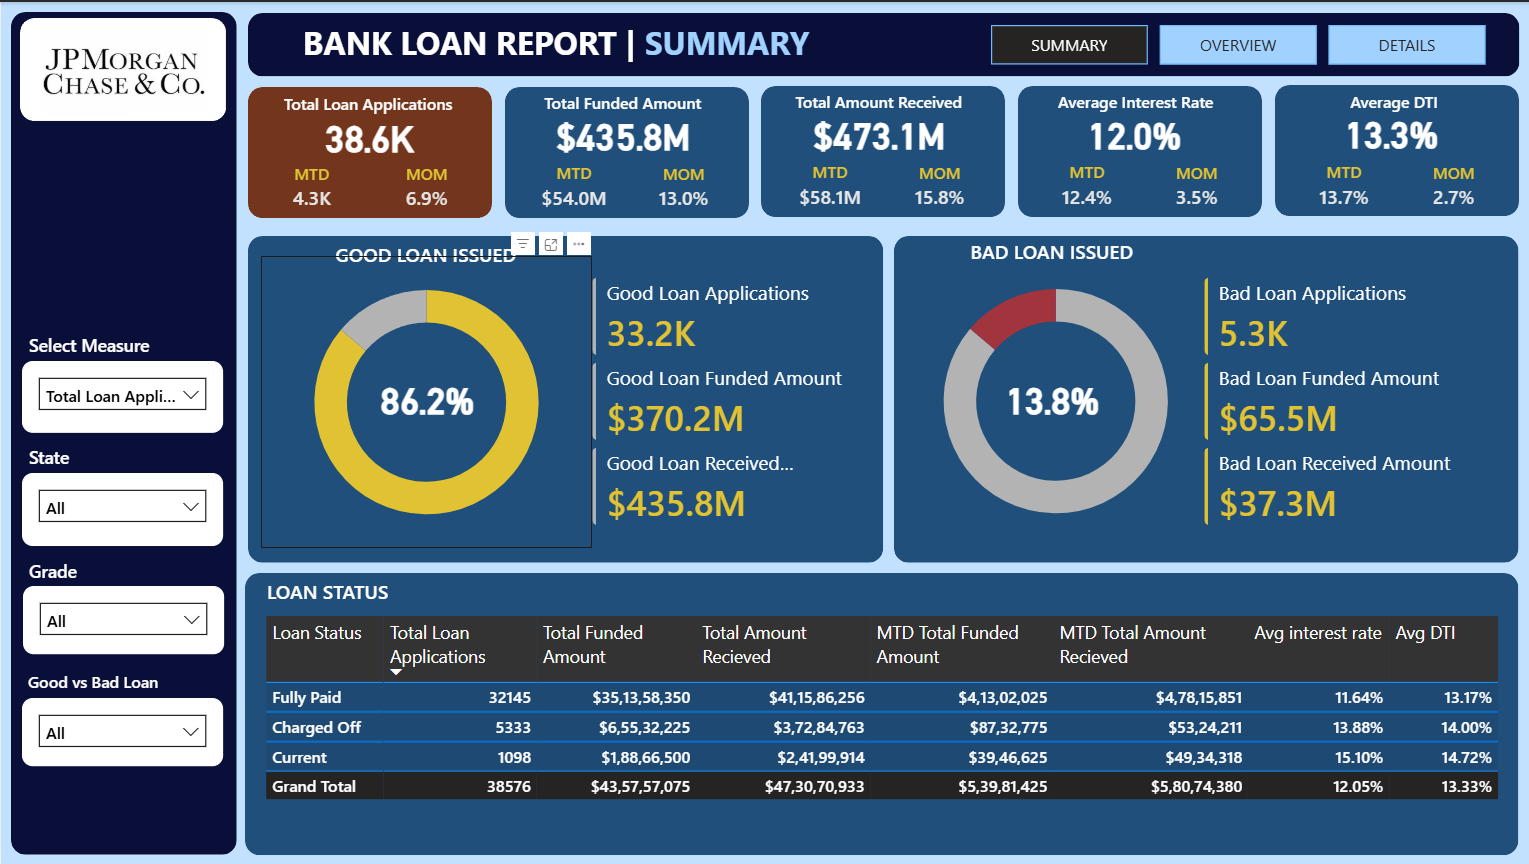

Layout of this report page (visuals, bound fields, positions):
{"tool":"powerbi","page":{"name":"SUMMARY","canvas":[1280,720],"ordinal":0},"visuals":[{"type":"shape","box":[8.1,8.1,188.5,703.8],"z":0},{"type":"shape","box":[1063.8,69.2,203.8,109.5],"z":0,"group":"g5"},{"type":"shape","box":[635.2,69.6,203.8,109.5],"z":0,"group":"g3"},{"type":"shape","box":[849.5,69.8,203.8,109.5],"z":0,"group":"g4"},{"type":"shape","box":[420.8,70.5,203.8,109.5],"z":0,"group":"g2"},{"type":"shape","box":[206.5,70.9,203.8,109.5],"z":0,"group":"g1"},{"type":"textbox","box":[1119.6,69,87.1,34.1],"z":1000,"group":"g5"},{"type":"textbox","box":[658.6,69.1,150,34.1],"z":1000,"group":"g3"},{"type":"textbox","box":[877.7,69.1,150,34],"z":1000,"group":"g4"},{"type":"textbox","box":[444.2,70,150,34.1],"z":1000,"group":"g2"},{"type":"textbox","box":[231.6,70.9,154.4,28.7],"z":1000,"group":"g1"},{"type":"shape","box":[203.5,477,1063.6,235.7],"z":1000},{"type":"shape","box":[16.2,13.5,172.4,86.2],"z":2000,"group":"g6"},{"type":"card","fields":{"Values":["Bank_Data.Total Amount Recieved"]},"box":[671.9,89.2,123.9,42.2],"z":2000,"group":"g3"},{"type":"card","fields":{"Values":["Bank_Data.Total Loan Applications"]},"box":[260.4,89.8,96.1,44.9],"z":2000,"group":"g1"},{"type":"card","fields":{"Values":["Bank_Data.Avg DTI"]},"box":[1105.5,89.9,110.4,38.6],"z":2000,"group":"g5"},{"type":"card","fields":{"Values":["Bank_Data.Total Funded Amount"]},"box":[457.5,90.1,123.9,42.2],"z":2000,"group":"g2"},{"type":"card","fields":{"Values":["Bank_Data.Avg interest rate"]},"box":[891.2,90.4,110.4,38.6],"z":2000,"group":"g4"},{"type":"shape","box":[206.5,195.7,530.6,272.9],"z":2000},{"type":"card","title":"MTD","fields":{"Values":["Bank_Data.MTD DTI"]},"box":[1089,132.4,65.4,46.2],"z":3000,"group":"g5"},{"type":"card","title":"MTD","fields":{"Values":["Bank_Data.MTD Total Amount Recieved"]},"box":[660.4,132.7,65.4,46.2],"z":3000,"group":"g3"},{"type":"card","title":"MTD","fields":{"Values":["Bank_Data.MTD avg interest"]},"box":[874.7,133,65.4,46.2],"z":3000,"group":"g4"},{"type":"card","title":"MTD","fields":{"Values":["Bank_Data.MTD Total Funded Amount"]},"box":[446,133.6,65.4,46.2],"z":3000,"group":"g2"},{"type":"card","title":"MTD","fields":{"Values":["Bank_Data.MTD Loan Application"]},"box":[231.6,134.6,56.6,45.8],"z":3000,"group":"g1"},{"type":"textbox","box":[255,195.7,200.2,34.1],"z":3000},{"type":"shape","box":[206.5,9,1062,53],"z":4000},{"type":"card","title":"MOM","fields":{"Values":["Bank_Data.MOM DTI"]},"box":[1185,133,56.6,45.8],"z":4000,"group":"g5"},{"type":"card","title":"MOM","fields":{"Values":["Bank_Data.MOM Recieved Amount amount"]},"box":[756.4,133.3,56.6,45.8],"z":4000,"group":"g3"},{"type":"card","title":"MOM","fields":{"Values":["Bank_Data.MOM interest rate"]},"box":[970.7,133.5,56.6,45.8],"z":4000,"group":"g4"},{"type":"card","title":"MOM","fields":{"Values":["Bank_Data.MOM funded amount"]},"box":[542,134.2,56.6,45.8],"z":4000,"group":"g2"},{"type":"card","title":"MOM","fields":{"Values":["Bank_Data.MOM Loan Application"]},"box":[327.7,134.6,56.6,45.8],"z":4000,"group":"g1"},{"type":"textbox","box":[242.4,9.9,442.6,52.1],"z":5000},{"type":"card","fields":{"Values":["Bank_Data.Good Loan Percentage"]},"box":[300.7,312.4,110.4,38.6],"z":6000},{"type":"group","id":"g1","title":"Group 1","box":[206.5,70.9,203.8,109.5],"z":7000},{"type":"group","id":"g2","title":"Group 1","box":[420.8,70,203.8,110.4],"z":8000},{"type":"group","id":"g3","title":"Group 1","box":[635.2,69.1,203.8,110.4],"z":9000},{"type":"group","id":"g4","title":"Group 1","box":[849.5,69.1,203.8,110.4],"z":10000},{"type":"group","id":"g5","title":"Group 1","box":[1063.8,69,203.8,109.8],"z":11000},{"type":"shape","box":[746,195.7,521.6,272.9],"z":12000},{"type":"donutChart","fields":{"Category":["Bank_Data.Good vs Bad Loans"],"Y":["Bank_Data.Total Loan Applications"]},"box":[217.3,211.9,276.5,244.2],"z":13000},{"type":"cardVisual","fields":{"Data":["Bank_Data.Good Loan Applications","Bank_Data.Good Loan Funded Amount","Bank_Data.Good Loan Received Amount"]},"box":[476.7,212.8,261.2,241.5],"z":14000},{"type":"donutChart","fields":{"Category":["Bank_Data.Good vs Bad Loans"],"Y":["Bank_Data.Total Loan Applications"]},"box":[746,211,270.2,244.2],"z":15000},{"type":"textbox","box":[777.5,193,200.2,34.1],"z":16000},{"type":"card","fields":{"Values":["Bank_Data.Bad Loan Percentage"]},"box":[822.3,312.4,110.4,38.6],"z":17000},{"type":"cardVisual","fields":{"Data":["Bank_Data.Bad Loan Applications","Bank_Data.Bad Loan Funded Amount","Bank_Data.Bad Loan Received Amount"]},"box":[988.4,212.8,280.1,241.5],"z":18000},{"type":"tableEx","fields":{"Values":["Bank_Data.loan_status","Bank_Data.Total Loan Applications","Bank_Data.Total Funded Amount","Bank_Data.Total Amount Recieved","Bank_Data.MTD Total Funded Amount","Bank_Data.MTD Total Amount Recieved","Bank_Data.Avg interest rate","Bank_Data.Avg DTI"]},"box":[215.5,508.1,1060.2,192.1],"z":19000},{"type":"textbox","box":[217.3,476.7,132,34.1],"z":20000},{"type":"textbox","box":[18.2,365.3,55.9,31.8],"z":21000},{"type":"slicer","fields":{"Values":["Bank_Data.address_state"]},"box":[18,393.2,167.9,61],"z":22000},{"type":"slicer","fields":{"Values":["Bank_Data.grade"]},"box":[18.2,487.6,167.6,57.1],"z":23000},{"type":"textbox","box":[18.2,460.6,72.9,31.8],"z":24000},{"type":"slicer","fields":{"Values":["Bank_Data.Good vs Bad Loans"]},"box":[17.6,581.2,167.6,57.1],"z":25000},{"type":"textbox","box":[18,553.9,139.2,32.3],"z":26000},{"type":"slicer","fields":{"Values":["Select Measure.Select Measure"]},"box":[18,299.9,167.9,60.1],"z":27000},{"type":"textbox","box":[18.1,271.9,124.4,40],"z":28000},{"type":"group","id":"g6","title":"Group 2","box":[16.2,13.5,172.4,86.2],"z":29000},{"type":"image","box":[26.8,20,151.7,76.3],"z":29001,"group":"g6"},{"type":"pageNavigator","box":[826.8,18.9,414.8,33.2],"z":30000}]}

Visuals, with their boxes in screenshot pixels (x1, y1, x2, y2), scaled from the page's 1280x720 canvas onto the 1529x864 screenshot:
shape: [x1=10, y1=10, x2=235, y2=854]
shape: [x1=1271, y1=83, x2=1514, y2=214]
shape: [x1=759, y1=84, x2=1002, y2=215]
shape: [x1=1015, y1=84, x2=1258, y2=215]
shape: [x1=503, y1=85, x2=746, y2=216]
shape: [x1=247, y1=85, x2=490, y2=216]
textbox: [x1=1337, y1=83, x2=1441, y2=124]
textbox: [x1=787, y1=83, x2=966, y2=124]
textbox: [x1=1048, y1=83, x2=1228, y2=124]
textbox: [x1=531, y1=84, x2=710, y2=125]
textbox: [x1=277, y1=85, x2=461, y2=120]
shape: [x1=243, y1=572, x2=1514, y2=855]
shape: [x1=19, y1=16, x2=225, y2=120]
card - Bank_Data.Total Amount Recieved: [x1=803, y1=107, x2=951, y2=158]
card - Bank_Data.Total Loan Applications: [x1=311, y1=108, x2=426, y2=162]
card - Bank_Data.Avg DTI: [x1=1321, y1=108, x2=1452, y2=154]
card - Bank_Data.Total Funded Amount: [x1=546, y1=108, x2=695, y2=159]
card - Bank_Data.Avg interest rate: [x1=1065, y1=108, x2=1196, y2=155]
shape: [x1=247, y1=235, x2=880, y2=562]
"MTD" card: [x1=1301, y1=159, x2=1379, y2=214]
"MTD" card: [x1=789, y1=159, x2=867, y2=215]
"MTD" card: [x1=1045, y1=160, x2=1123, y2=215]
"MTD" card: [x1=533, y1=160, x2=611, y2=216]
"MTD" card: [x1=277, y1=162, x2=344, y2=216]
textbox: [x1=305, y1=235, x2=544, y2=276]
shape: [x1=247, y1=11, x2=1515, y2=74]
"MOM" card: [x1=1416, y1=160, x2=1483, y2=215]
"MOM" card: [x1=904, y1=160, x2=971, y2=215]
"MOM" card: [x1=1160, y1=160, x2=1227, y2=215]
"MOM" card: [x1=647, y1=161, x2=715, y2=216]
"MOM" card: [x1=391, y1=162, x2=459, y2=216]
textbox: [x1=290, y1=12, x2=818, y2=74]
card - Bank_Data.Good Loan Percentage: [x1=359, y1=375, x2=491, y2=421]
"Group 1" group: [x1=247, y1=85, x2=490, y2=216]
"Group 1" group: [x1=503, y1=84, x2=746, y2=216]
"Group 1" group: [x1=759, y1=83, x2=1002, y2=215]
"Group 1" group: [x1=1015, y1=83, x2=1258, y2=215]
"Group 1" group: [x1=1271, y1=83, x2=1514, y2=215]
shape: [x1=891, y1=235, x2=1514, y2=562]
donutChart - Bank_Data.Good vs Bad Loans x Bank_Data.Total Loan Applications: [x1=260, y1=254, x2=590, y2=547]
cardVisual - Bank_Data.Good Loan Applications x Bank_Data.Good Loan Funded Amount: [x1=569, y1=255, x2=881, y2=545]
donutChart - Bank_Data.Good vs Bad Loans x Bank_Data.Total Loan Applications: [x1=891, y1=253, x2=1214, y2=546]
textbox: [x1=929, y1=232, x2=1168, y2=273]
card - Bank_Data.Bad Loan Percentage: [x1=982, y1=375, x2=1114, y2=421]
cardVisual - Bank_Data.Bad Loan Applications x Bank_Data.Bad Loan Funded Amount: [x1=1181, y1=255, x2=1515, y2=545]
tableEx - Bank_Data.loan_status x Bank_Data.Total Loan Applications: [x1=257, y1=610, x2=1524, y2=840]
textbox: [x1=260, y1=572, x2=417, y2=613]
textbox: [x1=22, y1=438, x2=89, y2=477]
slicer - Bank_Data.address_state: [x1=22, y1=472, x2=222, y2=545]
slicer - Bank_Data.grade: [x1=22, y1=585, x2=222, y2=654]
textbox: [x1=22, y1=553, x2=109, y2=591]
slicer - Bank_Data.Good vs Bad Loans: [x1=21, y1=697, x2=221, y2=766]
textbox: [x1=22, y1=665, x2=188, y2=703]
slicer - Select Measure.Select Measure: [x1=22, y1=360, x2=222, y2=432]
textbox: [x1=22, y1=326, x2=170, y2=374]
"Group 2" group: [x1=19, y1=16, x2=225, y2=120]
image: [x1=32, y1=24, x2=213, y2=116]
pageNavigator: [x1=988, y1=23, x2=1483, y2=63]
